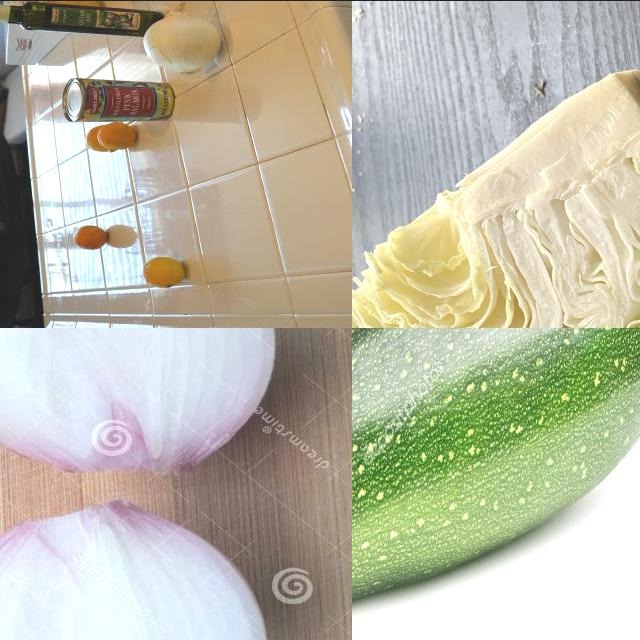cabbage: (353, 63, 640, 328)
onion: (1, 328, 278, 469), (1, 500, 271, 640), (145, 4, 231, 76)
zucchini: (353, 328, 640, 640)
